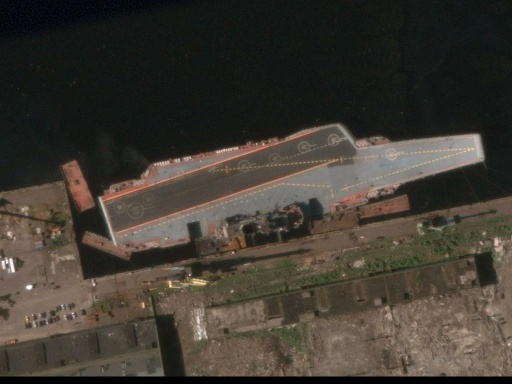ship: (93, 85, 490, 261)
